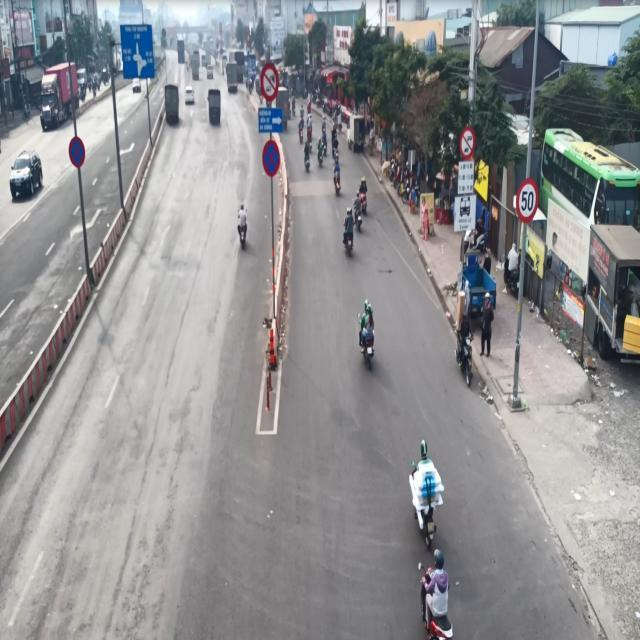car: (8, 149, 43, 200)
motorcycle: (358, 329, 374, 369)
person: (236, 204, 247, 248)
